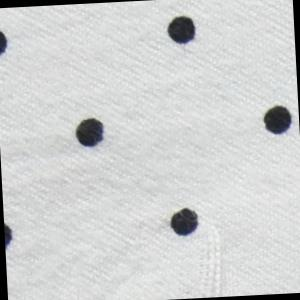Wrinkle: (194, 225, 236, 299)
